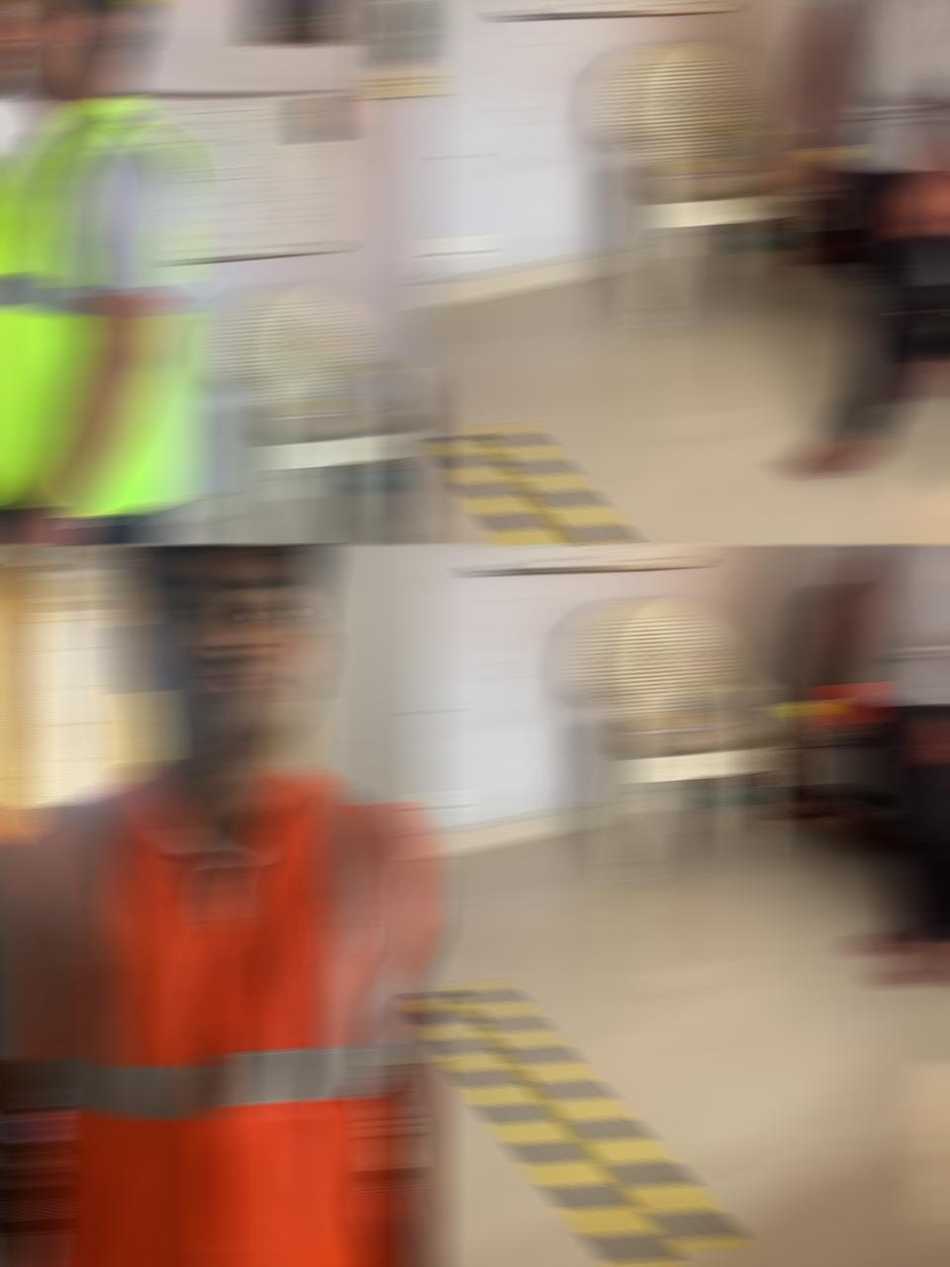BorderLine: (458, 978, 734, 1254), (418, 991, 665, 1267), (440, 422, 760, 544)
Helmet: (0, 0, 157, 14)
No_Helmet: (116, 545, 331, 648)
No_Vest: (833, 544, 950, 704)
Person: (0, 544, 436, 1266), (0, 0, 238, 543), (778, 0, 950, 477), (810, 544, 950, 985)
Vest: (10, 761, 427, 1267), (0, 93, 194, 517)
